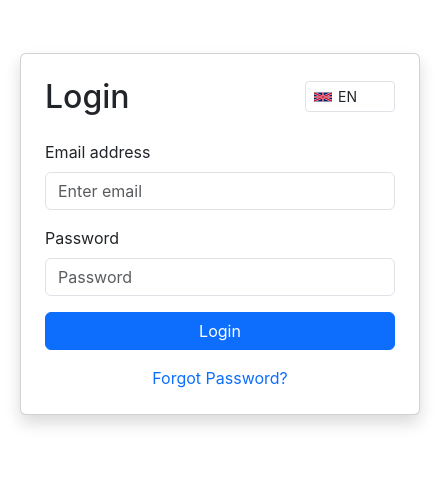
Test case: Login Component › clears error message on new submission attempt
The width and height of the screenshot is (441, 481).
Note: First failed attempt
Type "test@example.com" into the field labelled "Email address" at [220, 191], box [45,172,395,210]
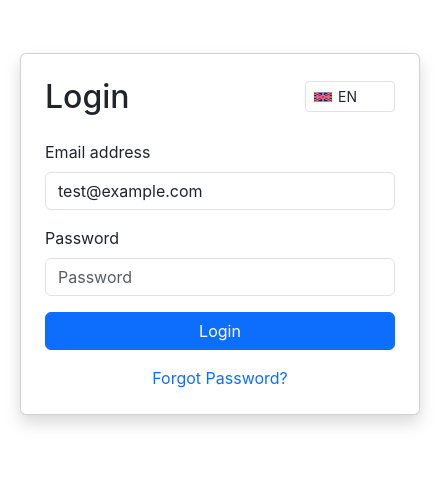
Type "wrongpassword" into the password field labelled "Password" at [220, 277], box [45,258,395,296]
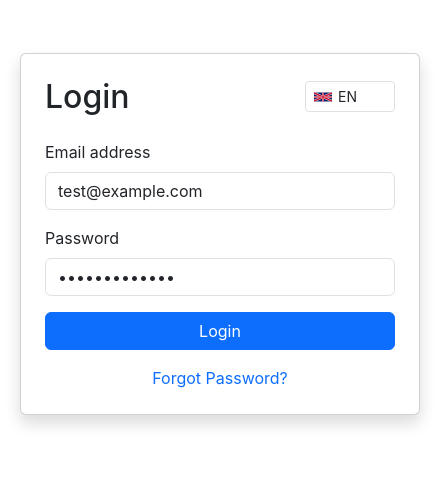
Click the button "Login" at [220, 331], box [45,312,395,350]
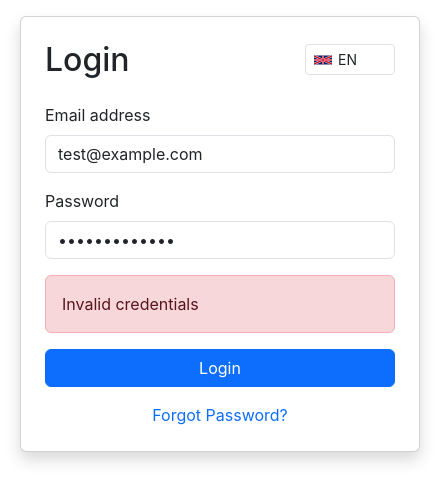
Now the text "Invalid credentials" is shown, box [45,275,395,333]
Type "correctpassword" into the password field labelled "Password" at [220, 240], box [45,221,395,259]
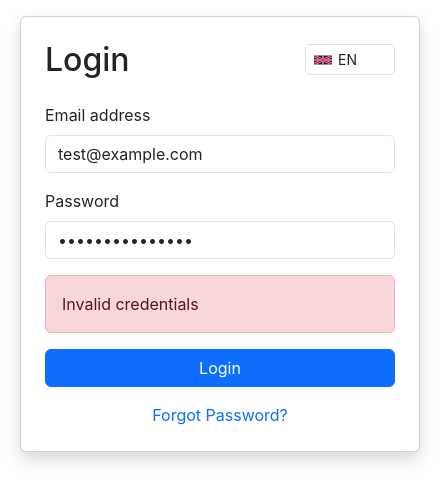
Click the button "Login" at [220, 368], box [45,349,395,387]
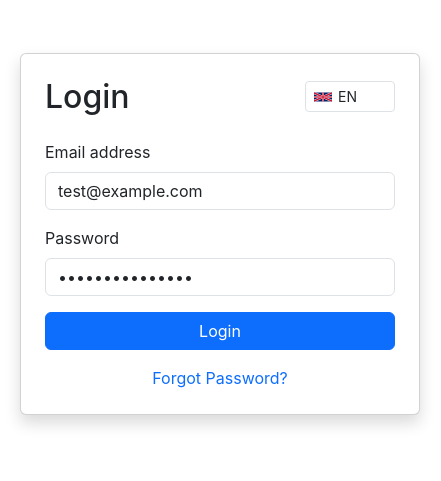
Now the text "Invalid credentials" is gone
